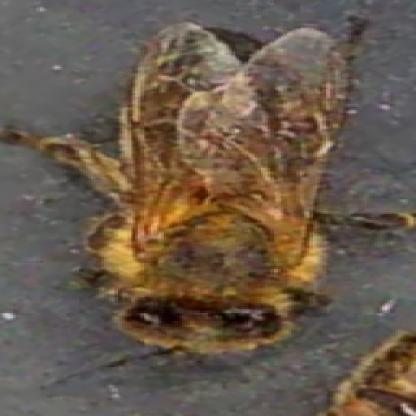bee: (105, 24, 332, 349)
